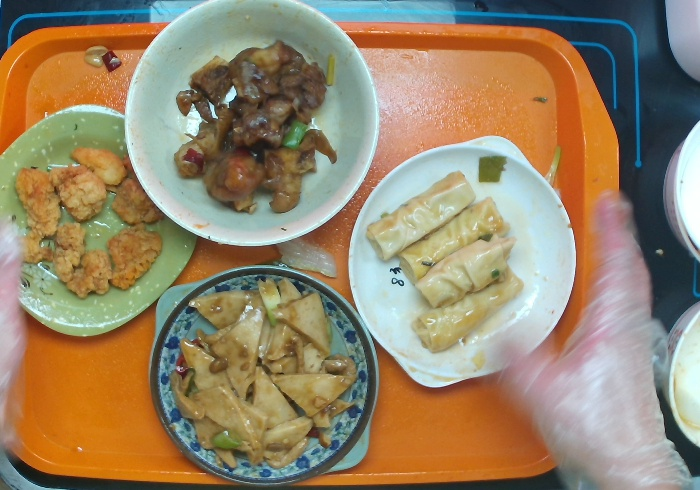NLDX-Bai_Se_Shuang_Er_Die: (345, 131, 579, 390)
NLDX-Bai_Se_Yuan_Wan: (121, 1, 383, 249)
NLDX-Lv_Hua_Fang_Die: (1, 101, 203, 340)
NLDX-Qing_Hua_Shuang_Er_Die: (143, 259, 384, 490)
